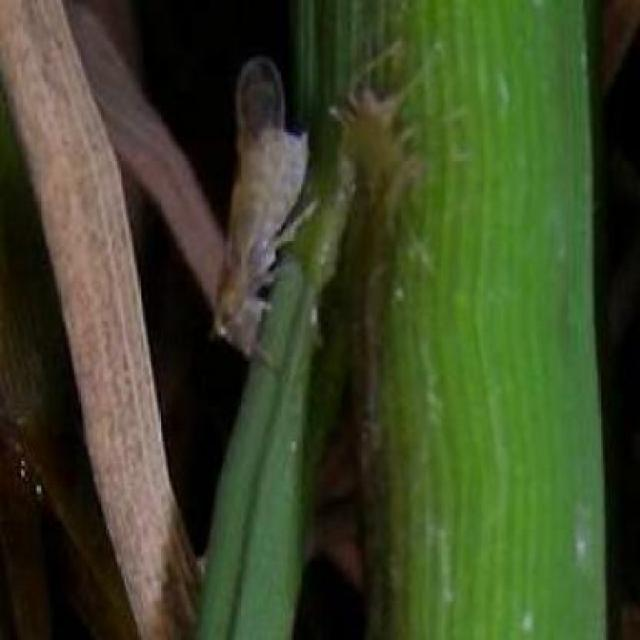brown-planthopper: (212, 57, 312, 358)
